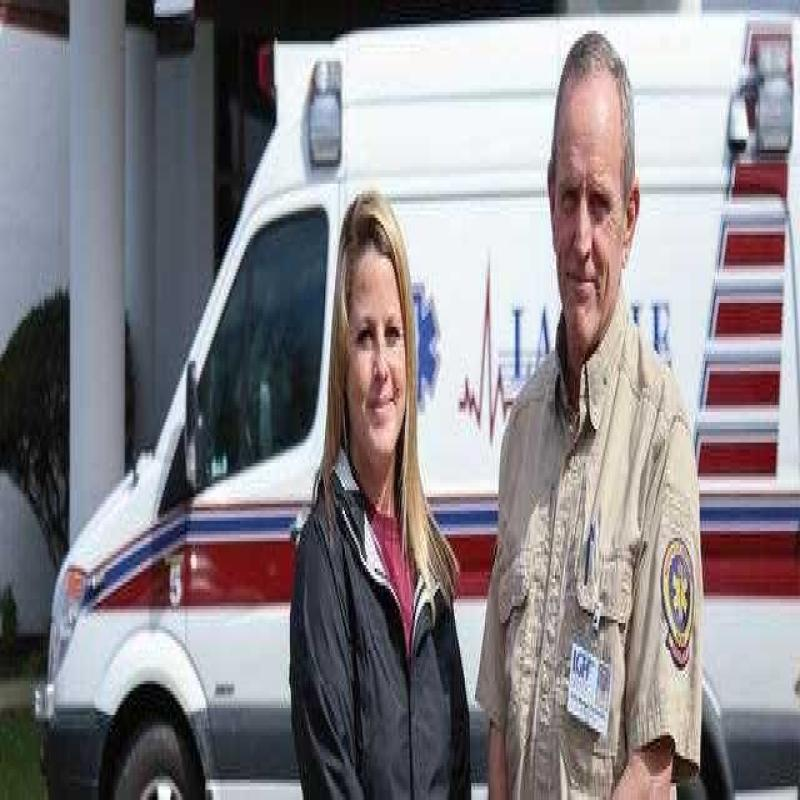AmbulanceSiren: (302, 66, 362, 222)
